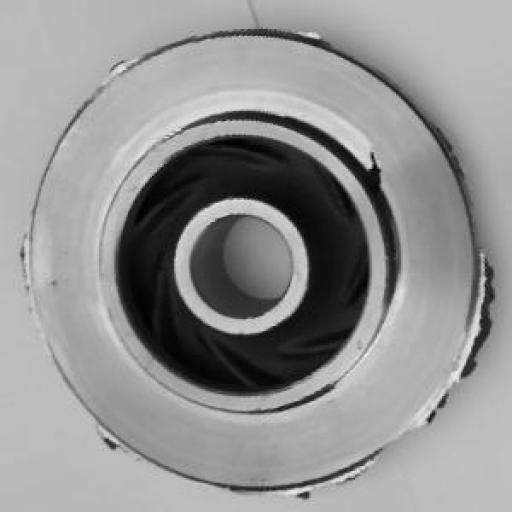defect: (25, 22, 497, 505)
